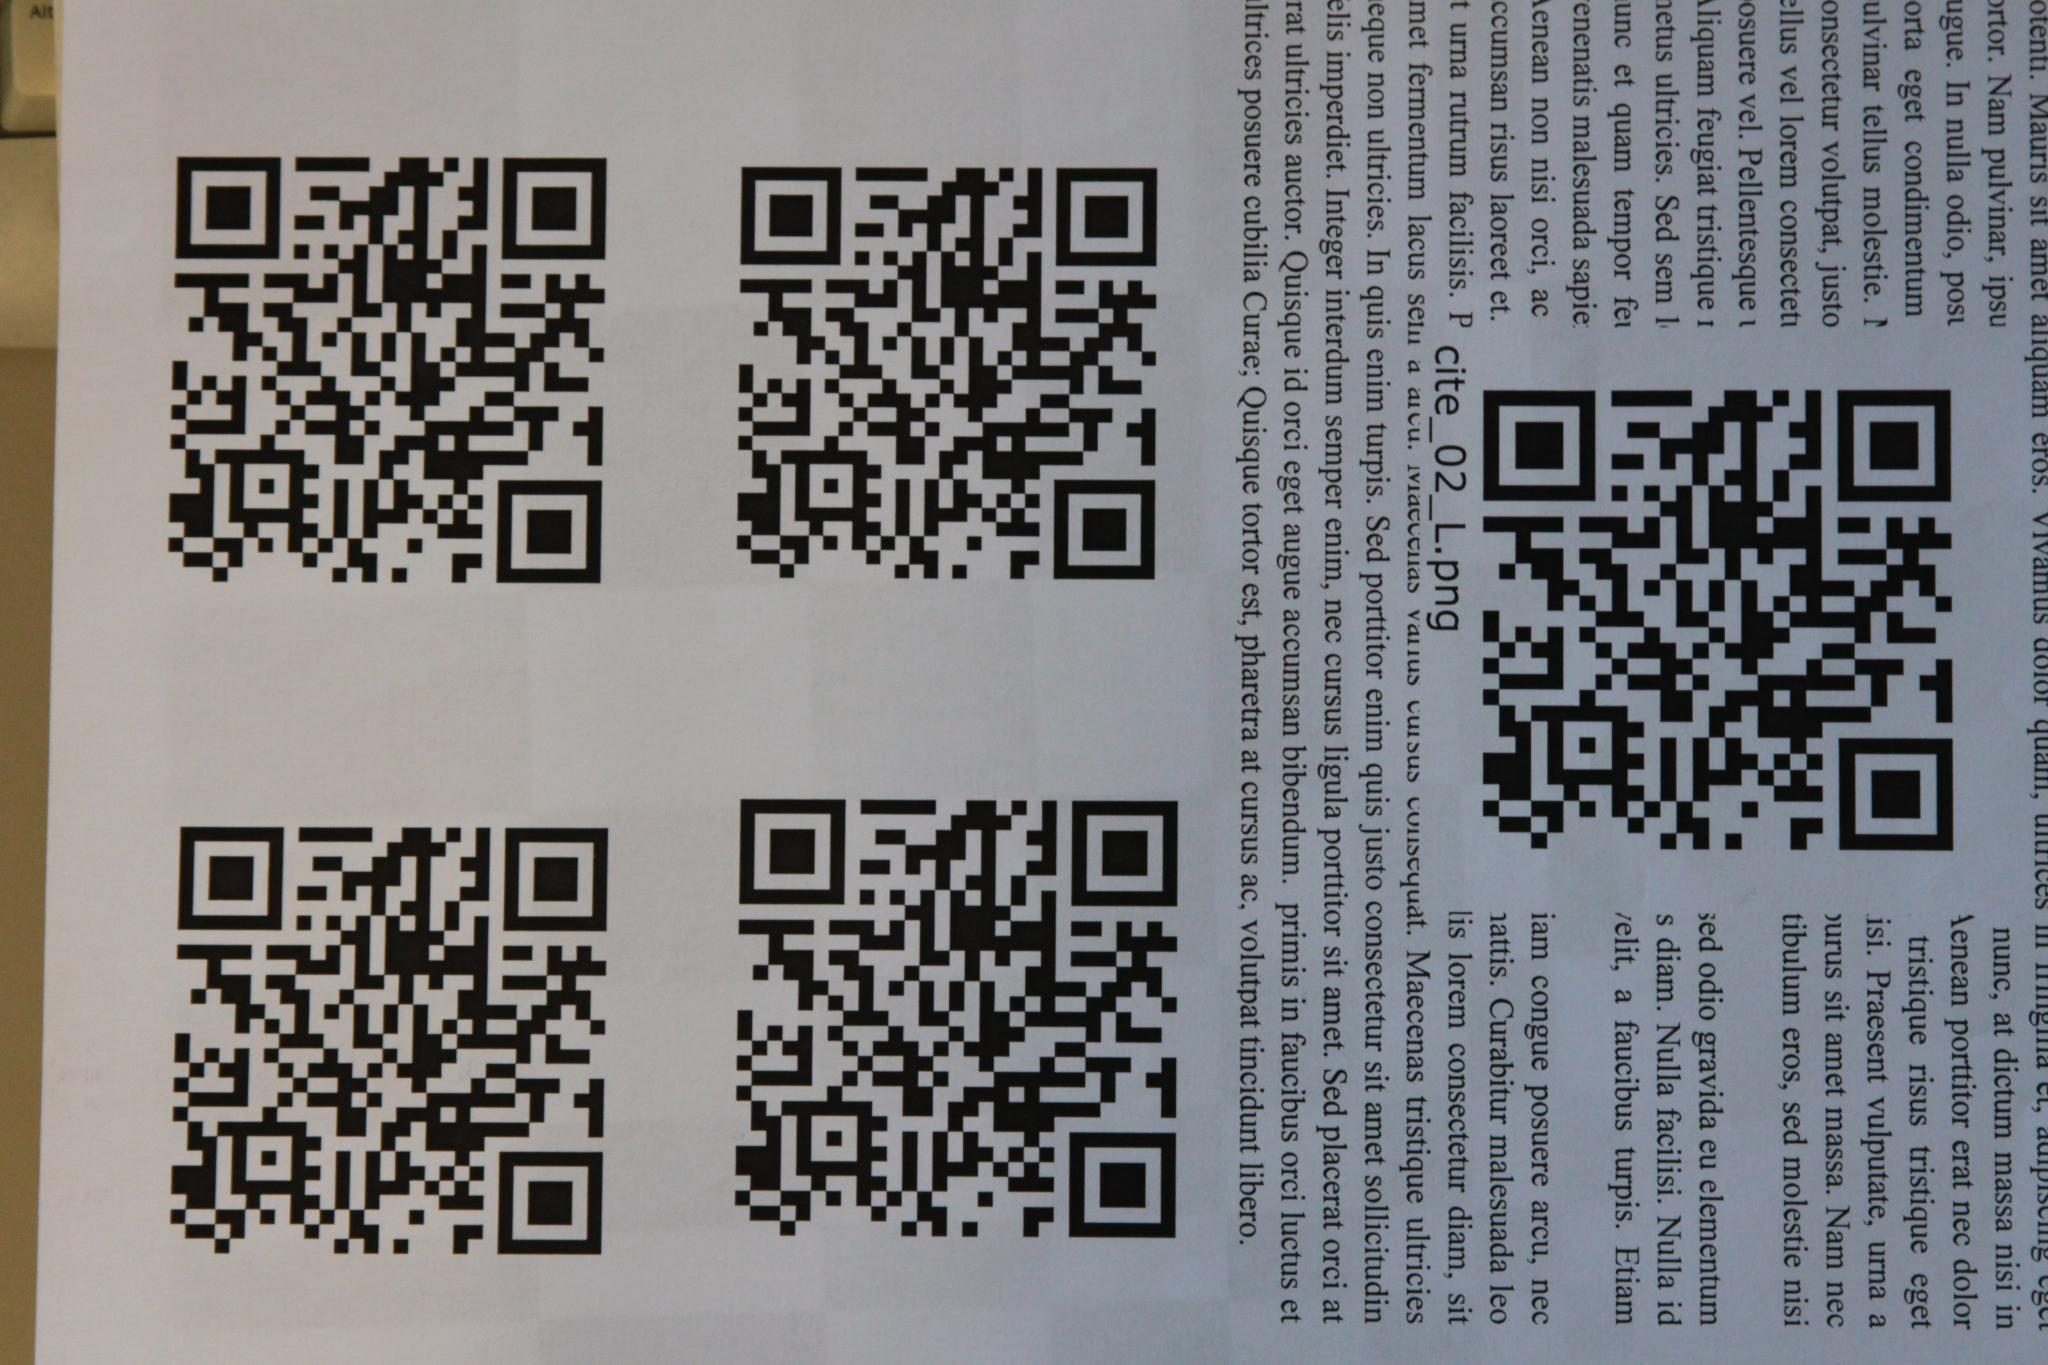Finder pattern: (1821, 727, 1975, 868), (1054, 1111, 1192, 1267), (1057, 780, 1198, 926), (483, 456, 620, 606), (1466, 375, 1606, 519), (484, 1133, 621, 1275), (1829, 379, 1967, 515), (1042, 459, 1177, 596), (723, 788, 862, 922), (1042, 143, 1182, 276), (723, 142, 851, 282), (484, 139, 620, 270), (155, 142, 292, 270), (493, 807, 618, 943), (169, 812, 295, 938)
